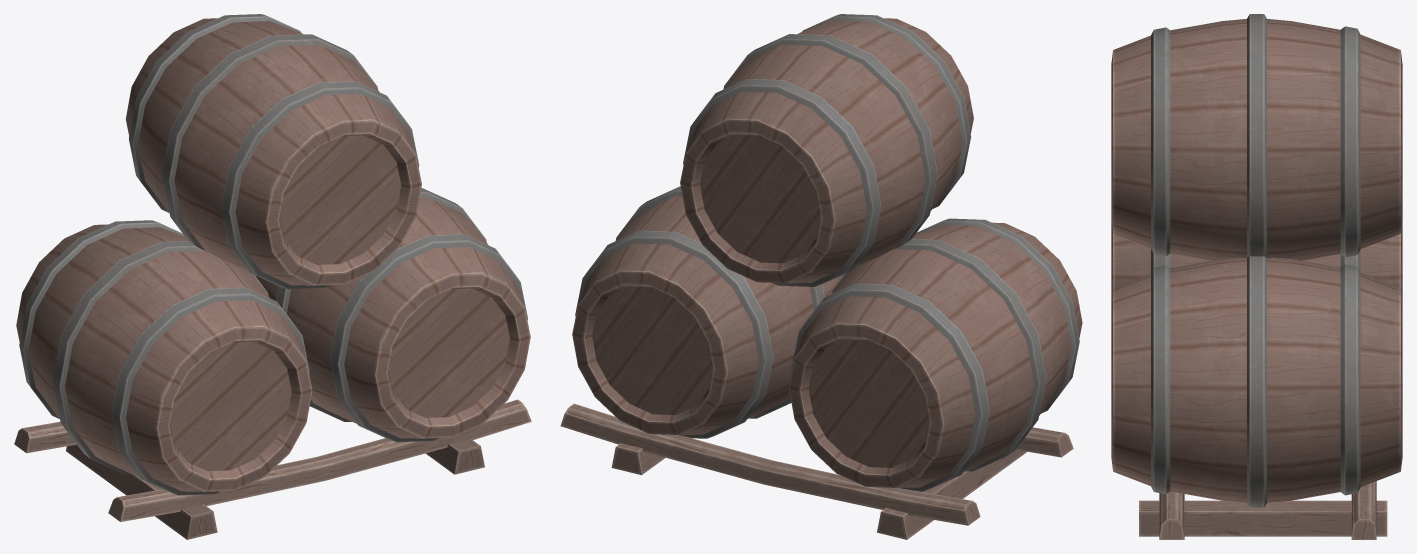
The picture shows the model from 3 angles, left to right: view 1: azimuth 30°, elevation 25°; view 2: azimuth 150°, elevation 25°; view 3: azimuth 270°, elevation 25°; orthographic projection. The views are drawn at different scales.
Parts seen in each view (by area): view 1: submesh_0; view 2: submesh_0; view 3: submesh_0.
Boxes of the visible parts, x1,y1,x2,y2 form: submesh_0: (14,14,531,539); submesh_0: (560,14,1082,539); submesh_0: (1111,14,1402,539).
Bounding box in the file's own units: 1.56 × 1.45 × 0.8829.
Materials: 1 (1 with a texture image).
